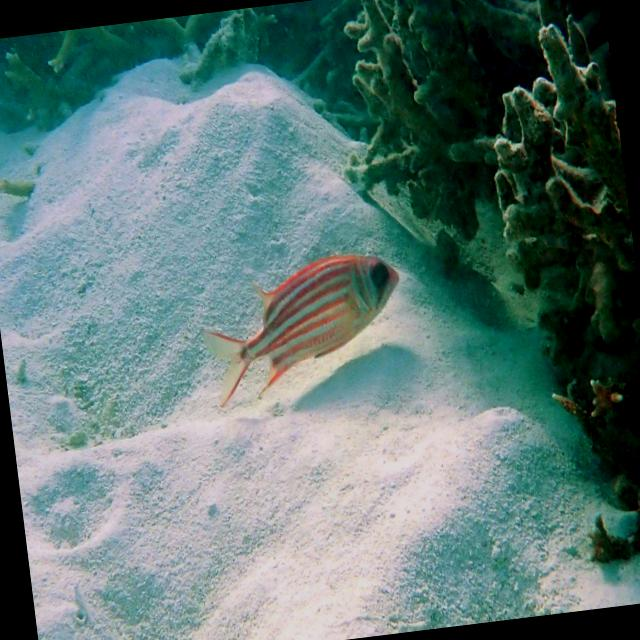Asker Baligi: (188, 229, 421, 424)
